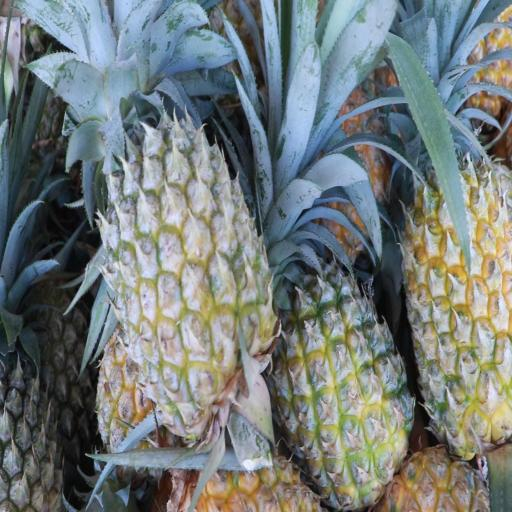------------------------------: (110, 121, 268, 424)
Pineapple - v8 v1: (273, 276, 409, 504), (402, 172, 512, 452)
